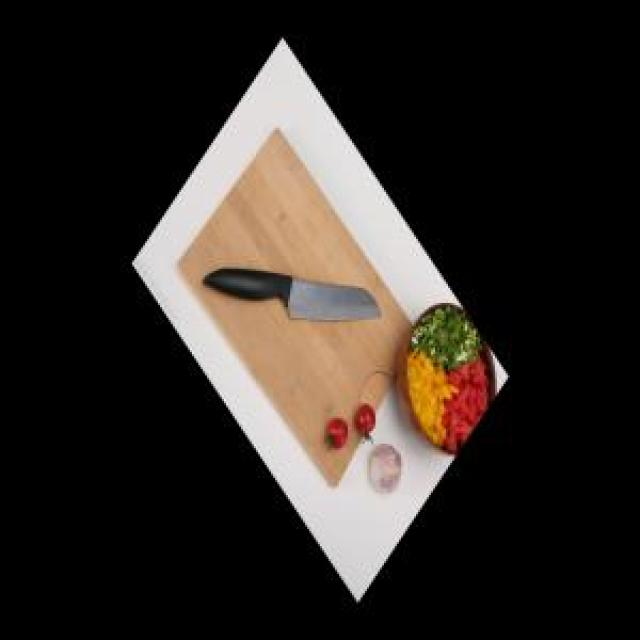knife: (203, 268, 382, 314)
